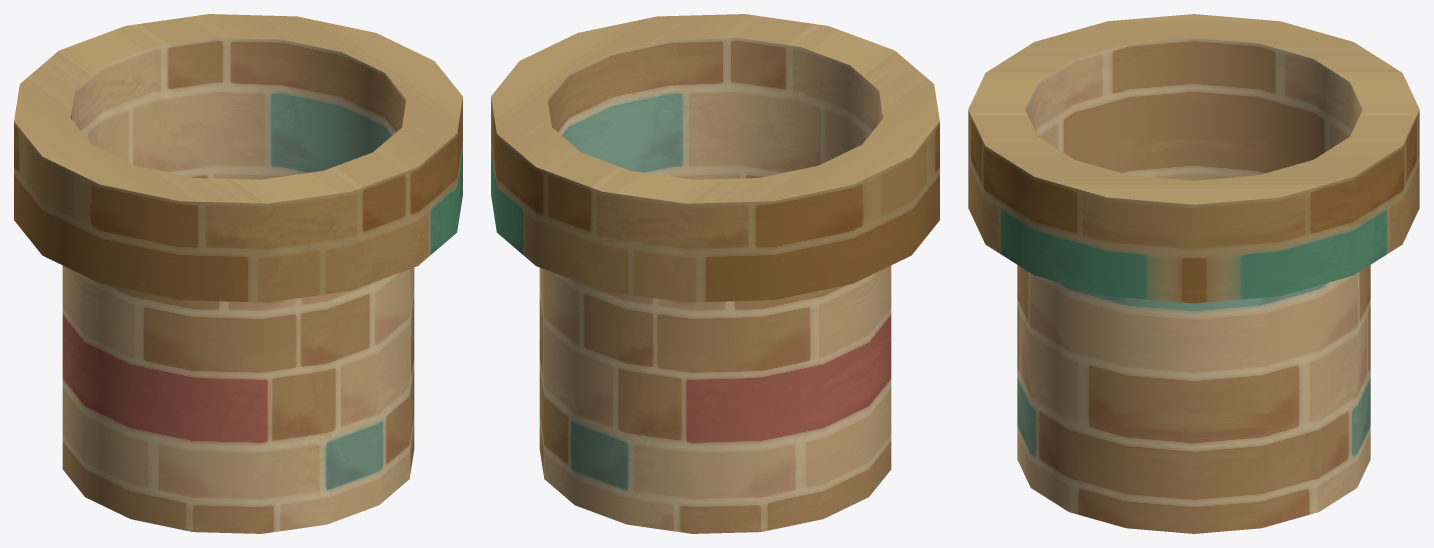
File: AztecWell.fbx
3 renders of one model, left to right at view 1: azimuth 30°, elevation 25°; view 2: azimuth 150°, elevation 25°; view 3: azimuth 270°, elevation 25°, orthographic.
Parts seen in each view (by area): view 1: Circle; view 2: Circle; view 3: Circle.
Part boxes in pixels (x1,y1,x2,y2): Circle: (14,14,462,533); Circle: (491,14,939,533); Circle: (968,14,1419,533).
Size of the model in its own units: 1022 by 878 by 1022.
Materials: 2 (2 with a texture image).
